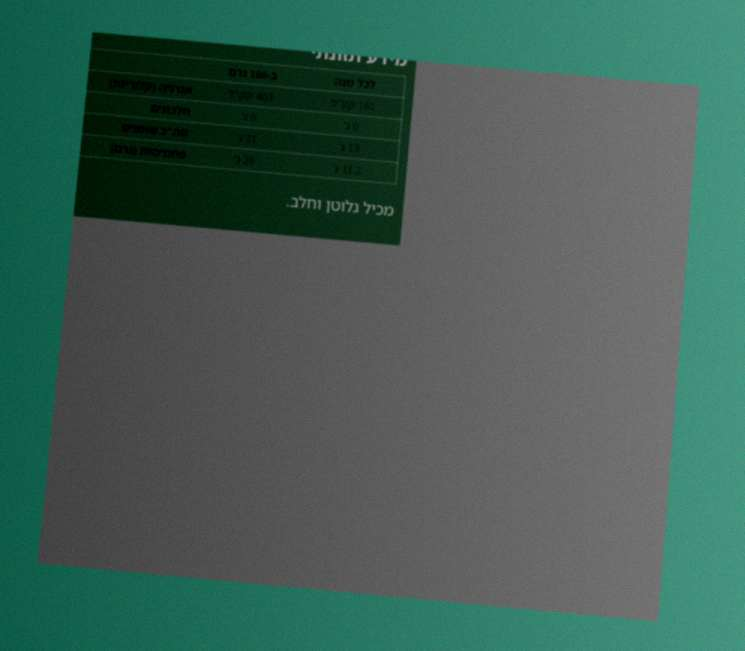carbs: (231, 149, 258, 170)
energy: (225, 83, 276, 107)
fat: (234, 127, 260, 149)
protein: (239, 106, 259, 127)
